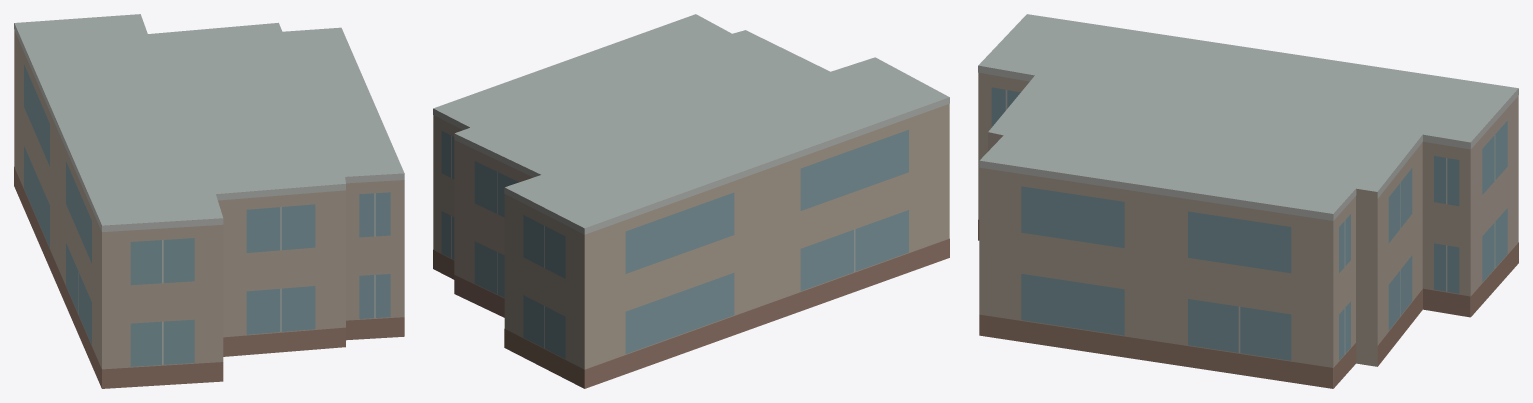
Rendered from survey-upis-32874010.glb.
3 views of the same model, side by side, from view 1: azimuth 30°, elevation 25°; view 2: azimuth 150°, elevation 25°; view 3: azimuth 270°, elevation 25° (orthographic). The views are drawn at different scales.
Visible parts, largest first — view 1: survey-upis-32874010.tmp; view 2: survey-upis-32874010.tmp; view 3: survey-upis-32874010.tmp.
Part boxes in pixels (bbox=[...]): survey-upis-32874010.tmp: bbox=[14, 14, 404, 388]; survey-upis-32874010.tmp: bbox=[433, 14, 949, 388]; survey-upis-32874010.tmp: bbox=[978, 14, 1518, 388].
Size of the model in its own units: 14.97 by 6.1 by 17.1.
